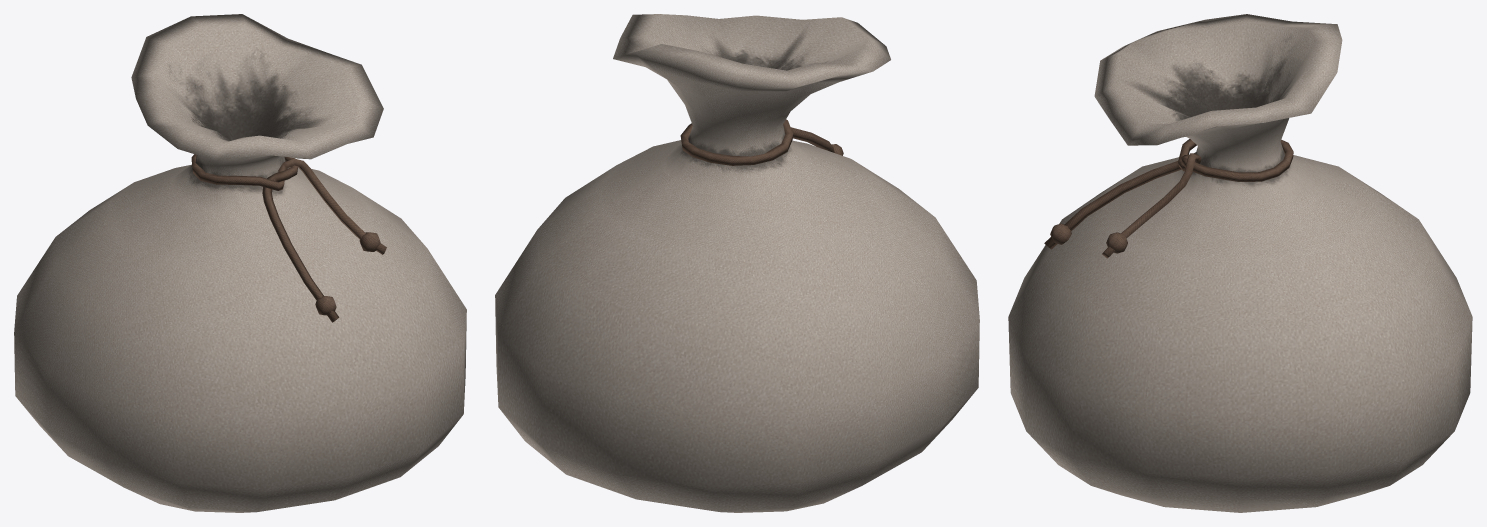
The model's file is bag.fbx.
3 views of the same model, side by side, from view 1: azimuth 30°, elevation 25°; view 2: azimuth 150°, elevation 25°; view 3: azimuth 270°, elevation 25° (orthographic). The views are drawn at different scales.
Visible parts, largest first — view 1: bag; view 2: bag; view 3: bag.
Part boxes in pixels (bbox=[...]): bag: bbox=[14, 14, 466, 512]; bag: bbox=[495, 14, 979, 512]; bag: bbox=[1008, 14, 1472, 512].
Size of the model in its own units: 83.7 by 84.85 by 83.7.
